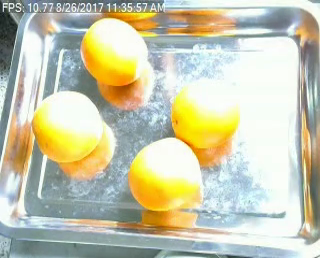Orange: (129, 137, 201, 211), (33, 89, 101, 163), (80, 17, 148, 86), (169, 79, 238, 147)
